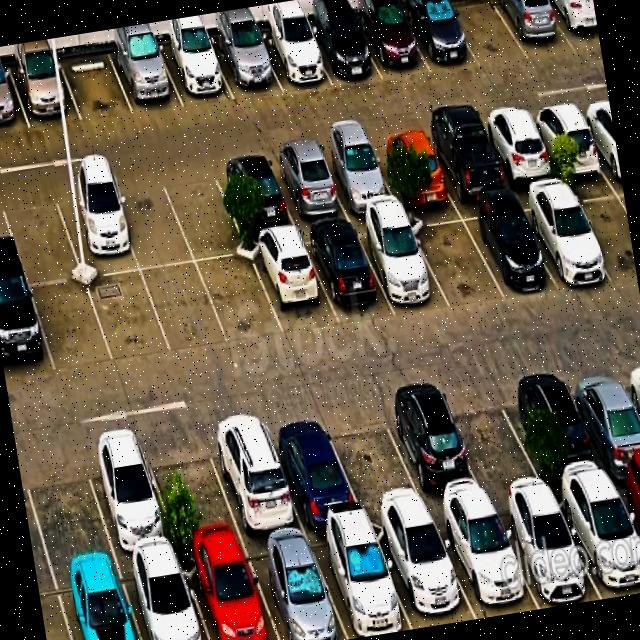empty: (442, 375, 548, 501), (141, 426, 244, 551), (321, 398, 428, 518), (18, 441, 115, 571), (406, 209, 505, 308), (160, 163, 248, 262), (110, 174, 194, 270), (0, 188, 83, 285), (142, 263, 229, 354), (87, 271, 172, 364), (31, 280, 114, 373), (197, 256, 284, 344), (567, 177, 638, 282), (445, 0, 528, 69), (59, 50, 134, 121)
occupied: (378, 385, 491, 512), (202, 411, 305, 540), (493, 493, 602, 609), (79, 433, 178, 559), (262, 407, 364, 529), (432, 503, 539, 619), (512, 365, 612, 489), (307, 523, 412, 639), (371, 515, 476, 629), (242, 534, 348, 640), (553, 480, 640, 599), (513, 185, 614, 287), (458, 199, 556, 298), (179, 543, 279, 640), (247, 232, 339, 337), (301, 223, 395, 324), (353, 216, 450, 312), (563, 359, 640, 479), (52, 181, 140, 278), (118, 552, 209, 640), (422, 120, 510, 201), (212, 154, 297, 237), (54, 562, 141, 640), (267, 146, 350, 226), (369, 129, 455, 205), (316, 139, 399, 216), (478, 109, 560, 186), (527, 102, 608, 176), (354, 4, 431, 80), (400, 0, 480, 73), (304, 15, 382, 86), (0, 283, 55, 382), (109, 44, 184, 114), (157, 39, 234, 107), (8, 58, 82, 128), (256, 26, 332, 91), (493, 0, 576, 59), (210, 33, 282, 99), (545, 0, 601, 51), (0, 66, 30, 133)
